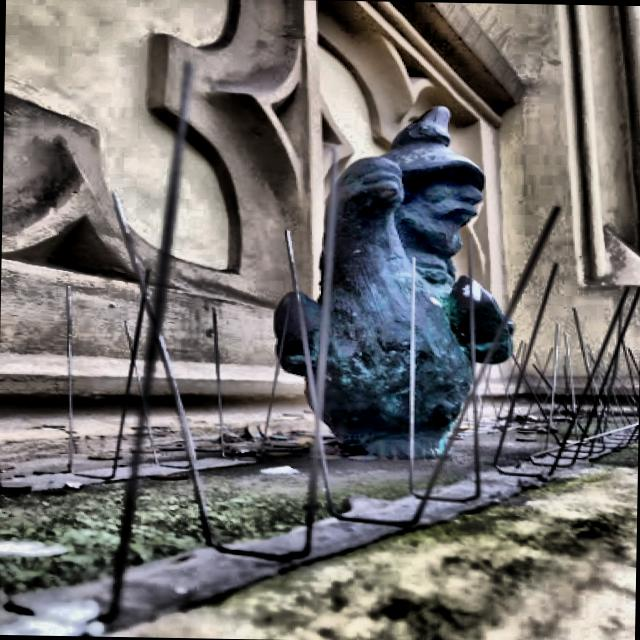Golebnik: (273, 106, 514, 462)
